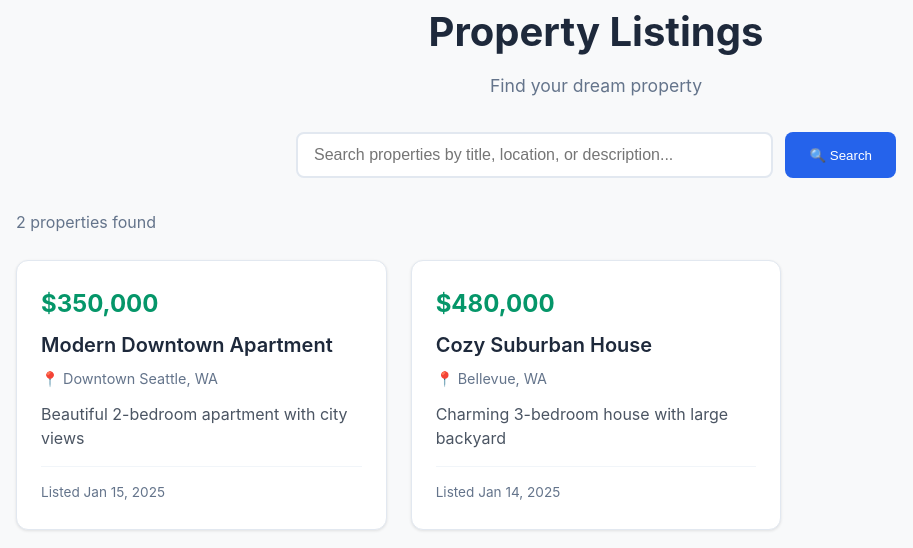
it: HomePage Component - Happy Path › search functionality works
Expected: the heading "Modern Downtown Apartment" is shown, 41,331 -> 362,359
Type "apartment" into the field with placeholder "Search properties by title, location, or description..." at (535, 155), box 296,132 -> 773,178
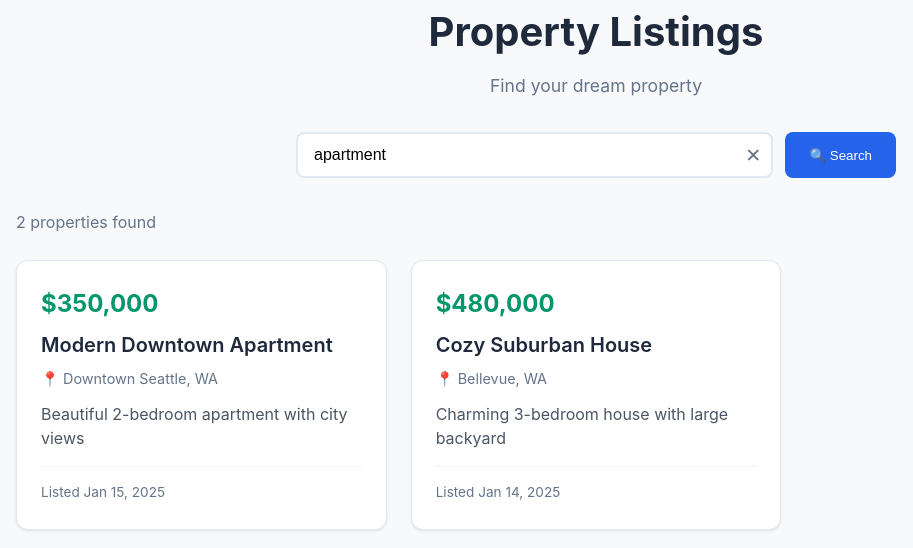
Click the button "🔍 Search" at (841, 155), box 785,132 -> 896,178
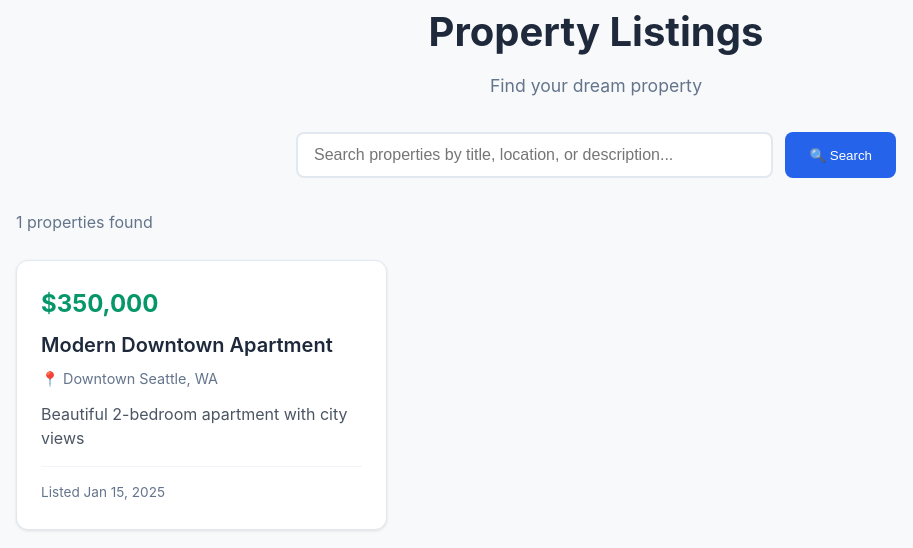
Expected: the text "1 properties found" is shown, 16,212 -> 153,232
